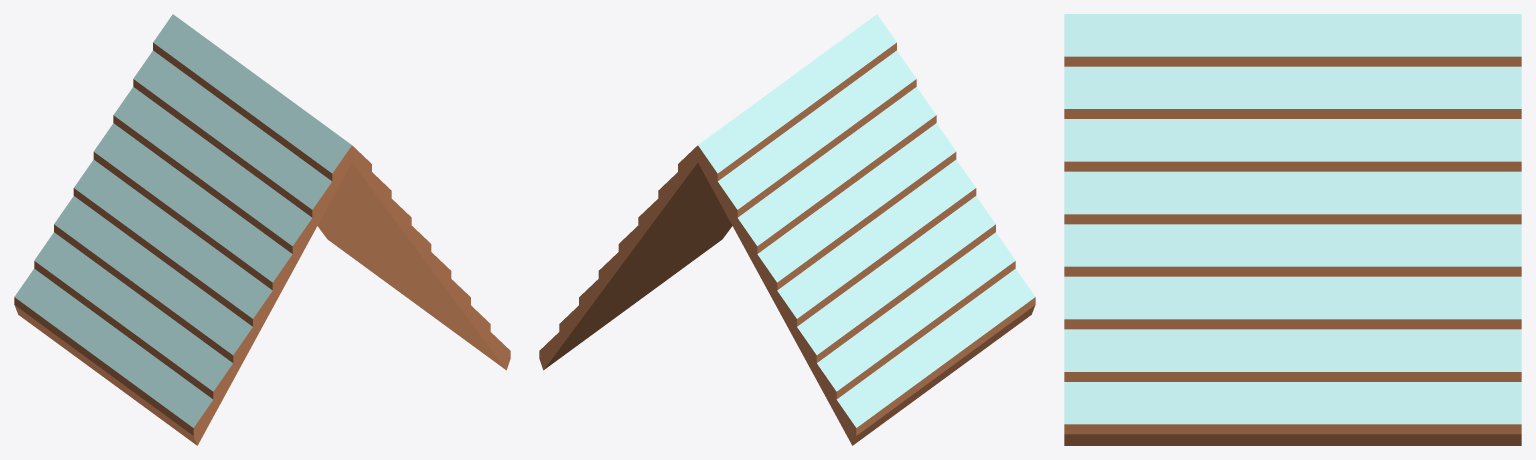
File: cabinRoofCenter.fbx
3 renders of one model, left to right at view 1: azimuth 30°, elevation 25°; view 2: azimuth 150°, elevation 25°; view 3: azimuth 270°, elevation 25°, orthographic. The views are drawn at different scales.
Parts seen in each view (by area): view 1: cabinRoofCenter; view 2: cabinRoofCenter; view 3: cabinRoofCenter.
Boxes of the visible parts, bbox=[...] form: cabinRoofCenter: bbox=[14, 14, 510, 445]; cabinRoofCenter: bbox=[539, 14, 1035, 445]; cabinRoofCenter: bbox=[1064, 14, 1521, 445].
Size of the model in its own units: 12.05 by 9.56 by 11.8.
